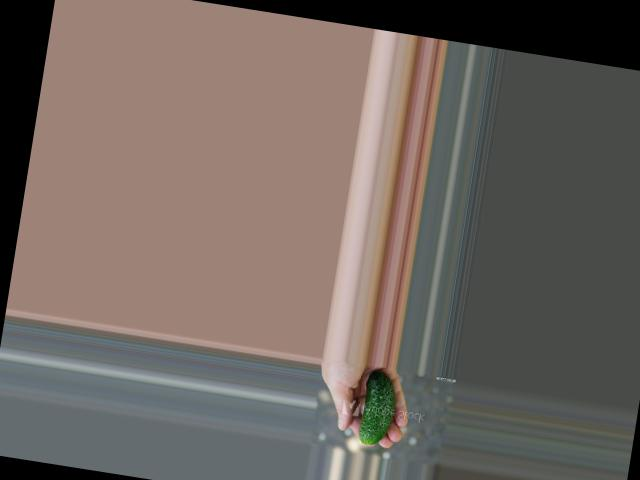cucumber: (357, 369, 400, 447)
